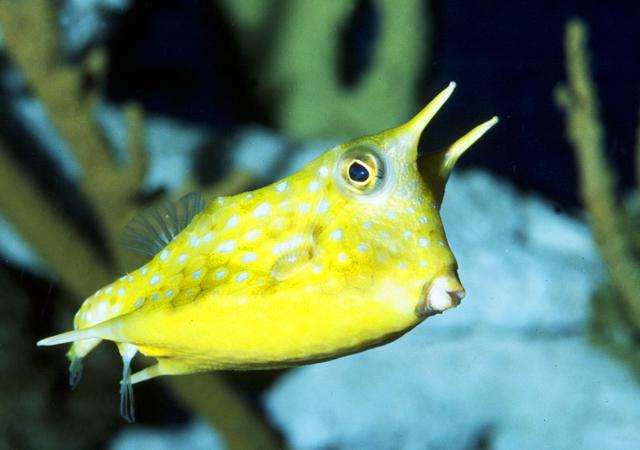Mulut: (412, 255, 486, 339)
